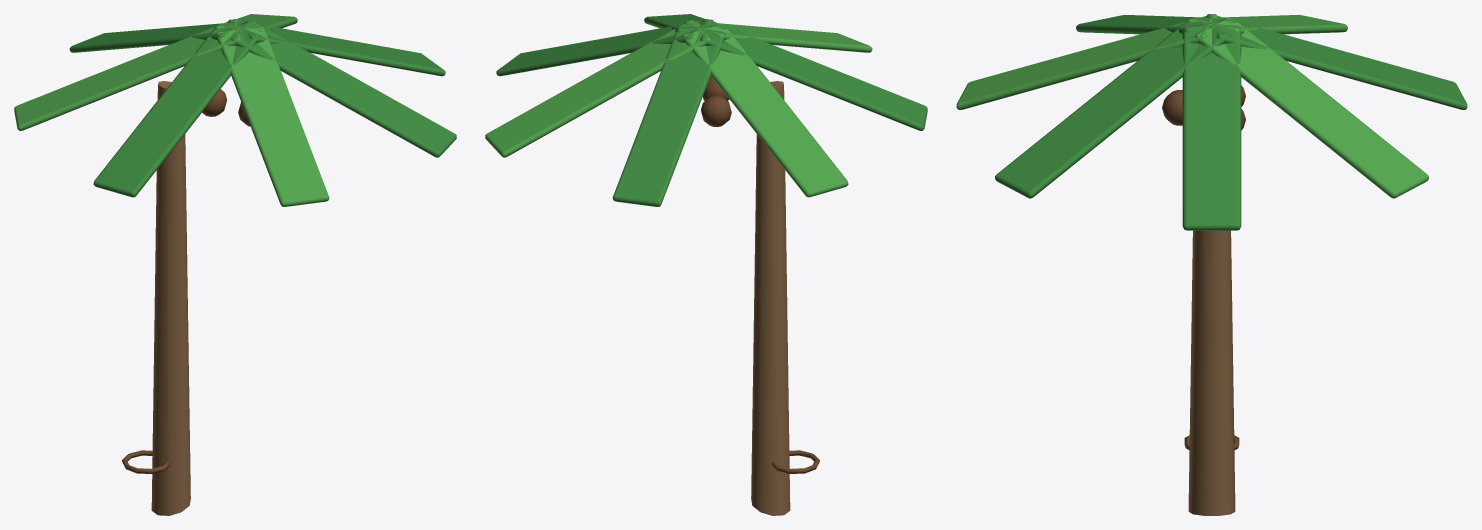
The model's file is prop_tree_tropical_0.glb.
The picture shows the model from 3 angles, left to right: view 1: azimuth 30°, elevation 25°; view 2: azimuth 150°, elevation 25°; view 3: azimuth 270°, elevation 25°; orthographic projection. The views are drawn at different scales.
Parts seen in each view (by area): view 1: Trunk, Frond5, Frond4, Frond6, Frond3, Frond0, Frond2, Frond1; view 2: Trunk, Frond2, Frond3, Frond1, Frond4, Frond0, Frond5, Coconut1, Frond6; view 3: Trunk, Frond0, Frond1, Frond6, Frond2, Frond5, Frond3, Frond4, Coconut2.
Boxes of the visible parts, left/top/right/bottom form: Trunk: left=151, top=81, right=190, bottom=515; Frond5: left=216, top=26, right=329, bottom=206; Frond4: left=93, top=24, right=259, bottom=197; Frond6: left=231, top=20, right=456, bottom=157; Frond3: left=14, top=19, right=241, bottom=130; Frond0: left=228, top=19, right=445, bottom=76; Frond2: left=69, top=21, right=256, bottom=52; Frond1: left=215, top=14, right=297, bottom=31; Trunk: left=751, top=81, right=790, bottom=515; Frond2: left=612, top=26, right=725, bottom=206; Frond3: left=682, top=24, right=848, bottom=197; Frond1: left=485, top=20, right=710, bottom=157; Frond4: left=700, top=19, right=927, bottom=130; Frond0: left=496, top=19, right=713, bottom=76; Frond5: left=685, top=21, right=872, bottom=52; Coconut1: left=701, top=95, right=731, bottom=126; Frond6: left=644, top=14, right=726, bottom=31; Trunk: left=1188, top=230, right=1235, bottom=515; Frond0: left=1182, top=25, right=1241, bottom=230; Frond1: left=1195, top=17, right=1428, bottom=198; Frond6: left=995, top=17, right=1228, bottom=198; Frond2: left=1206, top=14, right=1467, bottom=109; Frond5: left=956, top=14, right=1217, bottom=109; Frond3: left=1187, top=14, right=1347, bottom=34; Frond4: left=1076, top=14, right=1236, bottom=34; Coconut2: left=1162, top=90, right=1182, bottom=125.
Bounding box in the file's own units: 4.68 × 5.48 × 4.79.
